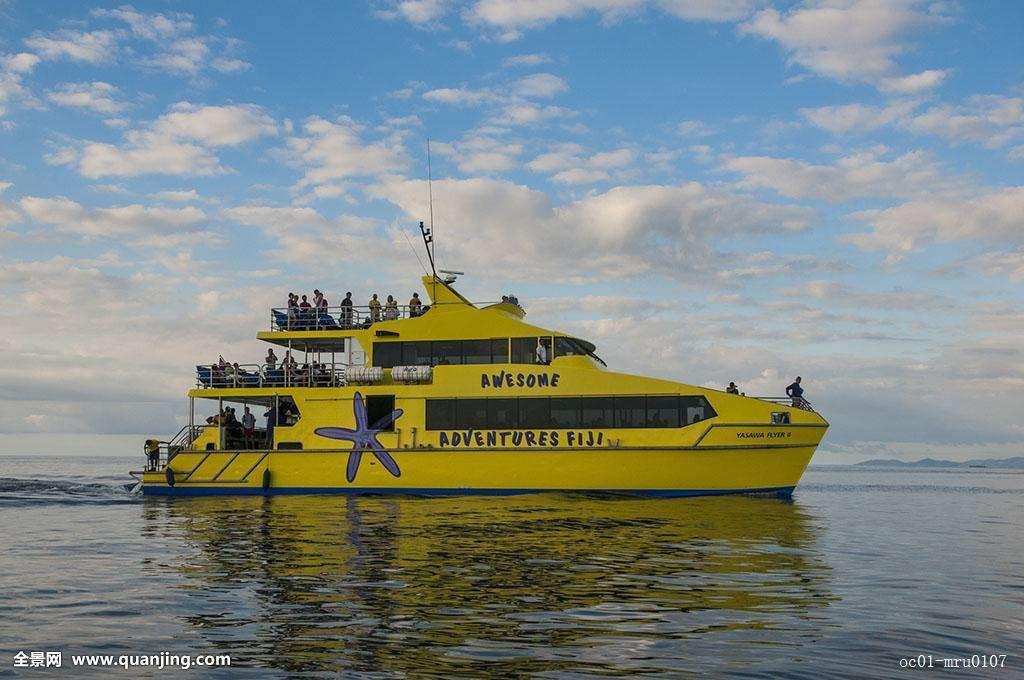yacht: (131, 235, 836, 500)
